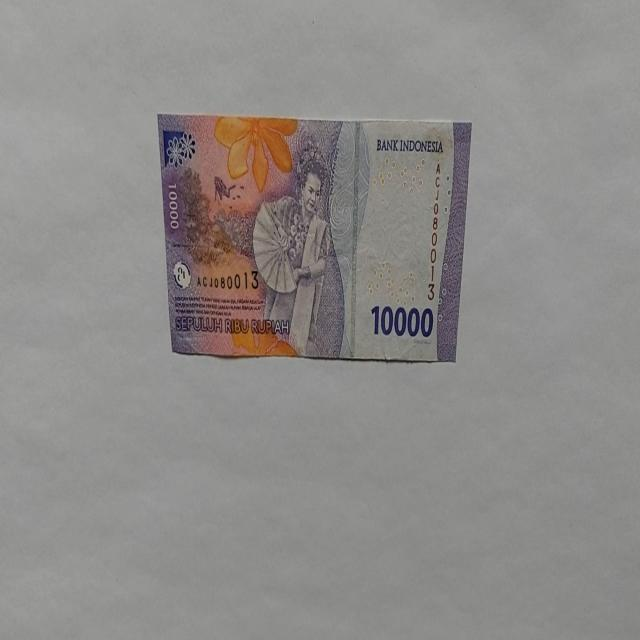sepuluh ribu rupiah: (156, 113, 472, 363)
